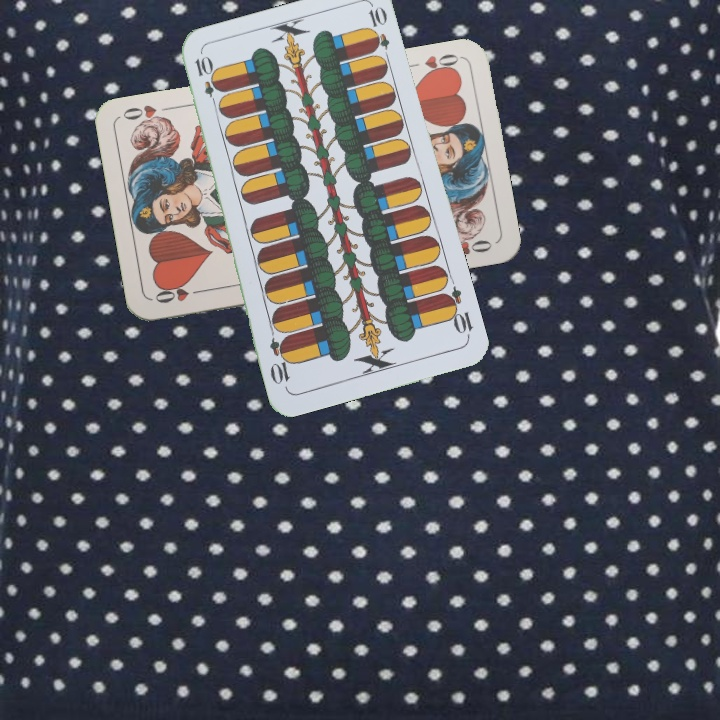E10: (439, 283, 476, 341), (191, 52, 222, 111)
HO: (418, 49, 463, 80), (151, 282, 209, 306)
